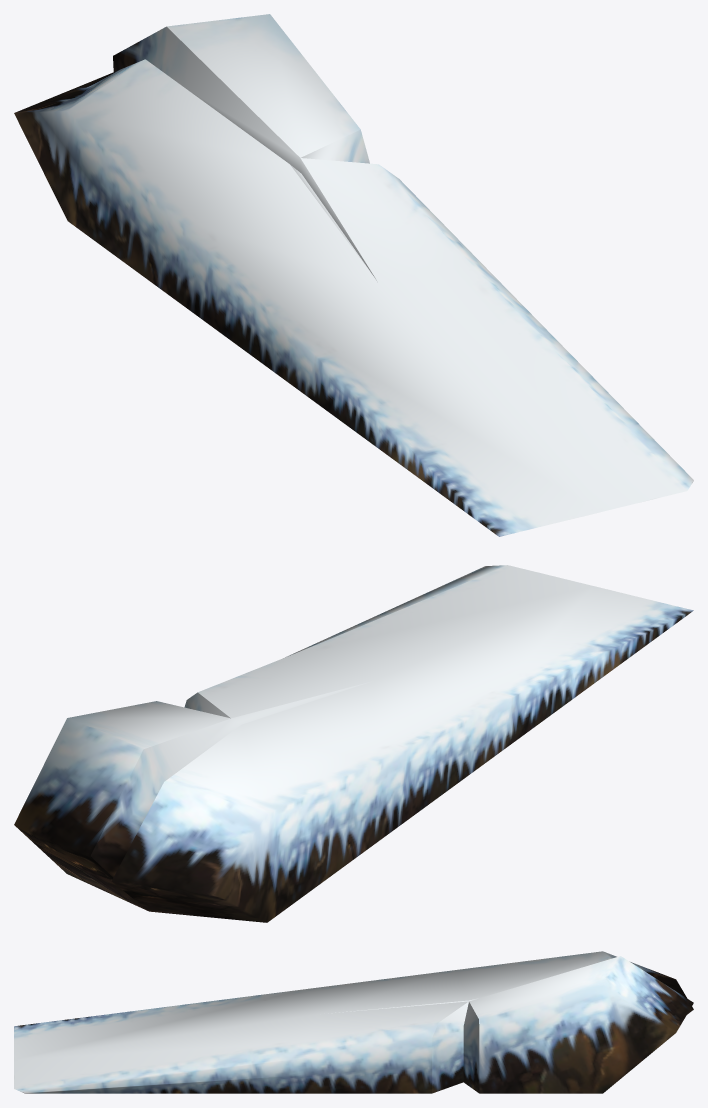
File: mc_env_snow mountain_mountain_03_v02.FBX
The picture shows the model from 3 angles, top to bottom: view 1: azimuth 30°, elevation 25°; view 2: azimuth 150°, elevation 25°; view 3: azimuth 270°, elevation 25°; orthographic projection. The views are drawn at different scales.
Parts seen in each view (by area): view 1: Box004; view 2: Box004; view 3: Box004.
Boxes of the visible parts, box(x1,y1,x2,y2) form: Box004: box(14, 14, 693, 536); Box004: box(14, 565, 693, 922); Box004: box(14, 951, 693, 1093).
Bounding box in the file's own units: 501 × 349 × 1997.
